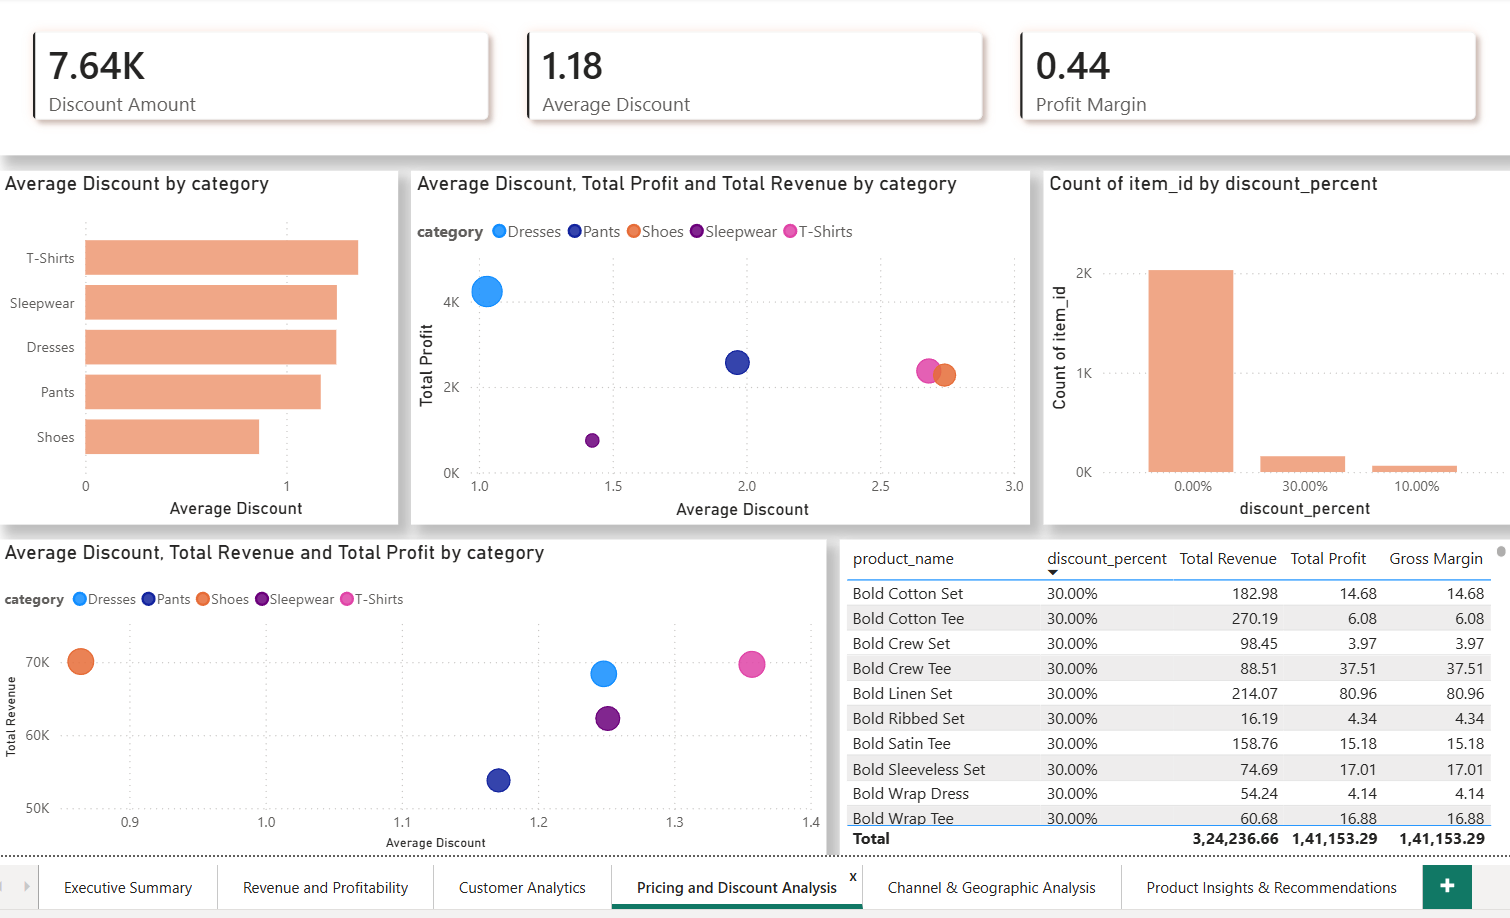

The dashboard page shown, as its layout file describes it:
{"tool":"powerbi","page":{"name":"Pricing  and Discount Analysis ","canvas":[1280,720],"ordinal":3},"visuals":[{"type":"cardVisual","fields":{"Data":["salesitems.Discount Amount","salesitems.Average Discount","salesitems.Profit Margin"]},"box":[10,0,1270,132.6],"z":0},{"type":"clusteredBarChart","fields":{"Category":["products.category"],"Y":["salesitems.Average Discount"]},"box":[10,145.4,335,296.5],"z":1000},{"type":"scatterChart","fields":{"Series":["products.category"],"Size":["salesitems.Total Revenue"],"X":["salesitems.Average Discount"],"Y":["salesitems.Total Profit"]},"box":[356.3,145.4,518.8,296.5],"z":2000},{"type":"scatterChart","fields":{"Series":["products.category"],"Size":["salesitems.Total Profit"],"X":["salesitems.Average Discount"],"Y":["salesitems.Total Revenue"]},"box":[10,454.7,694.2,265.1],"z":3000},{"type":"clusteredColumnChart","fields":{"Category":["salesitems.discount_percent"],"Y":["CountNonNull(salesitems.item_id)"]},"box":[886.6,145.4,393.4,296.5],"z":4000},{"type":"tableEx","fields":{"Values":["products.product_name","salesitems.discount_percent","salesitems.Total Revenue","salesitems.Total Profit","salesitems.Gross Margin"]},"box":[715.5,454.7,564.5,265.1],"z":5000}]}

Visuals, with their boxes on the page's 1280x720 design canvas (x1, y1, x2, y2). These are canvas units, not pixel positions in the 1510x918 screenshot, which may show the page scaled, cropped or inside an application window:
cardVisual - salesitems.Discount Amount x salesitems.Average Discount: box=[10, 0, 1280, 133]
clusteredBarChart - products.category x salesitems.Average Discount: box=[10, 145, 345, 442]
scatterChart - products.category x salesitems.Total Revenue: box=[356, 145, 875, 442]
scatterChart - products.category x salesitems.Total Profit: box=[10, 455, 704, 720]
clusteredColumnChart - salesitems.discount_percent x CountNonNull(salesitems.item_id): box=[887, 145, 1280, 442]
tableEx - products.product_name x salesitems.discount_percent: box=[716, 455, 1280, 720]
